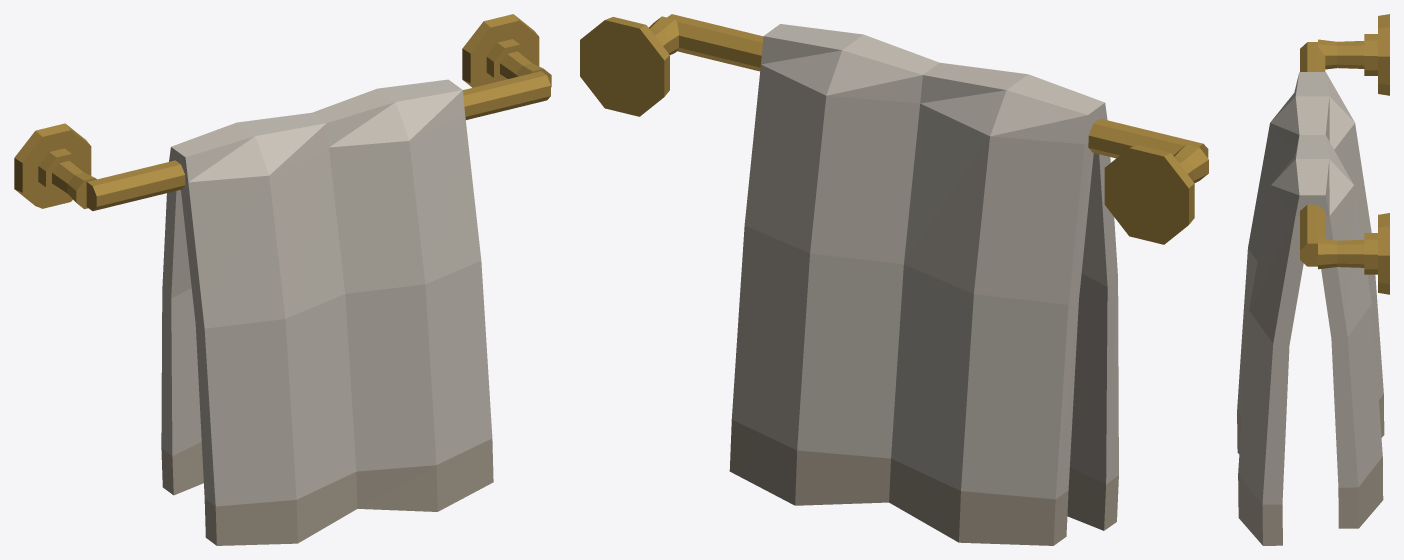
File: towel-rail-81254f.glb
3 renders of one model, left to right at view 1: azimuth 30°, elevation 25°; view 2: azimuth 150°, elevation 25°; view 3: azimuth 270°, elevation 25°, orthographic. The views are drawn at different scales.
Parts seen in each view (by area): view 1: towel-mesh, towel-rail-mesh; view 2: towel-mesh, towel-rail-mesh; view 3: towel-mesh, towel-rail-mesh.
Part boxes in pixels (x1=…): towel-mesh: x1=161, y1=79, x2=493, y2=545; towel-rail-mesh: x1=14, y1=14, x2=551, y2=210; towel-mesh: x1=729, y1=24, x2=1118, y2=545; towel-rail-mesh: x1=580, y1=14, x2=1208, y2=244; towel-mesh: x1=1237, y1=72, x2=1384, y2=545; towel-rail-mesh: x1=1300, y1=14, x2=1389, y2=294.
Bounding box in the file's own units: 0.6 × 0.439 × 0.168.
